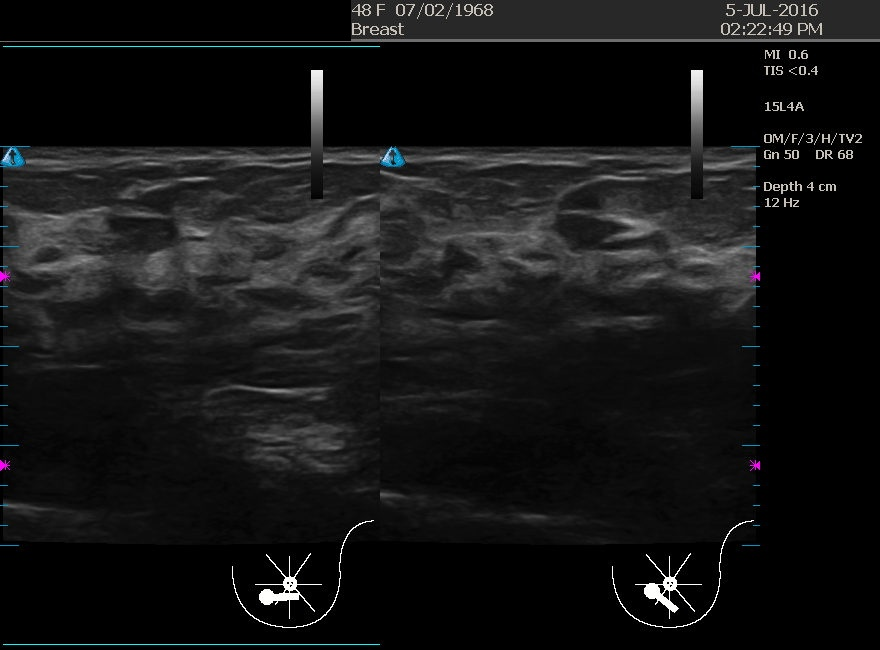BIRADS_2: (51, 168, 251, 369), (488, 150, 688, 350)
